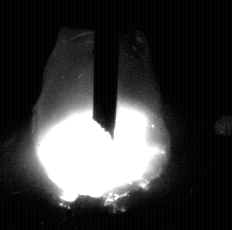arame: (93, 0, 118, 139)
poca: (32, 0, 171, 230)
